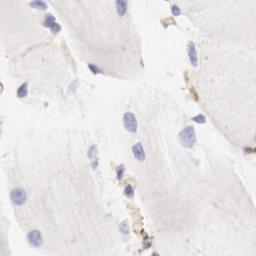nucleus: (179, 126, 198, 149), (185, 41, 199, 67), (123, 112, 138, 134), (25, 229, 43, 247), (131, 142, 147, 161), (10, 187, 26, 206), (114, 163, 126, 180), (115, 1, 127, 18), (122, 184, 136, 198), (16, 82, 28, 98), (28, 1, 48, 10), (120, 218, 130, 235), (43, 15, 57, 27), (50, 23, 63, 35), (86, 145, 98, 157), (88, 64, 102, 74), (193, 113, 207, 122), (92, 158, 99, 173), (171, 4, 180, 15), (152, 250, 160, 256), (144, 239, 150, 247), (245, 149, 251, 154), (163, 24, 168, 28), (141, 57, 143, 66)
positive_cell: (120, 178, 138, 198), (140, 228, 151, 250), (244, 145, 256, 154)
